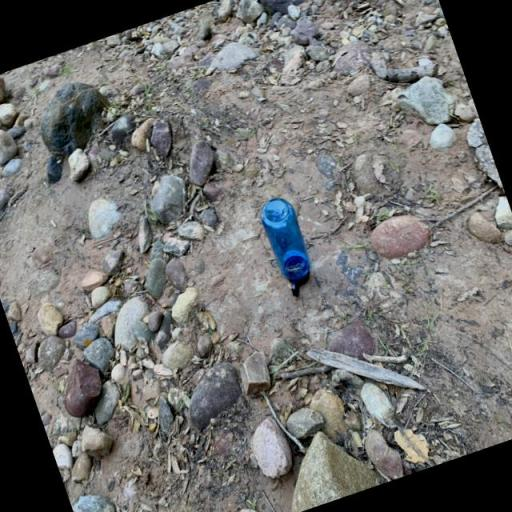bottle: (255, 193, 321, 299)
